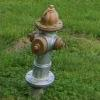a fire hydrant: (28, 3, 64, 86)
